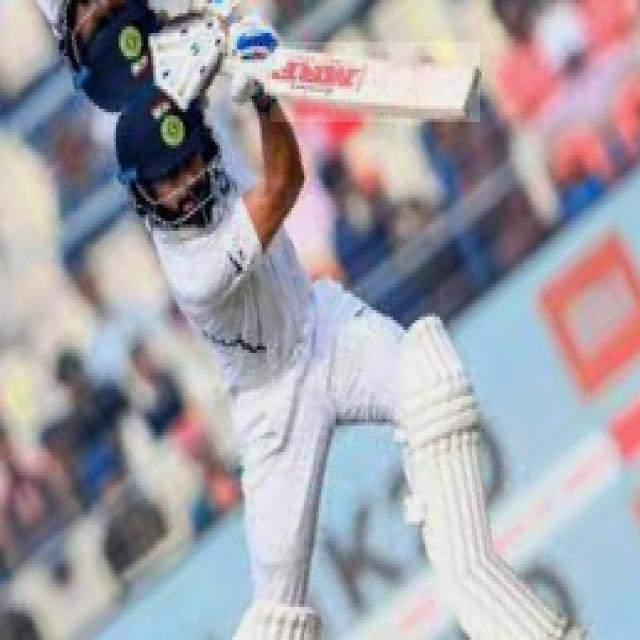bat: (270, 46, 477, 123)
toe: (463, 75, 479, 114)
